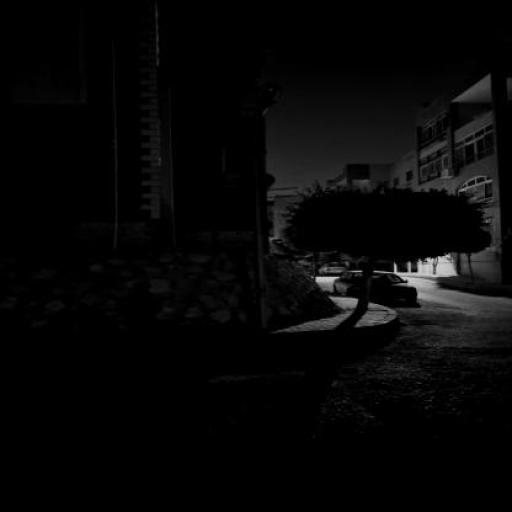street light: (248, 82, 284, 330)
